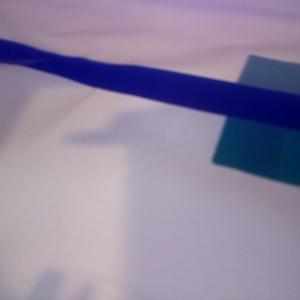bottom_left: (211, 94, 300, 187)
top_left: (237, 53, 300, 115)
